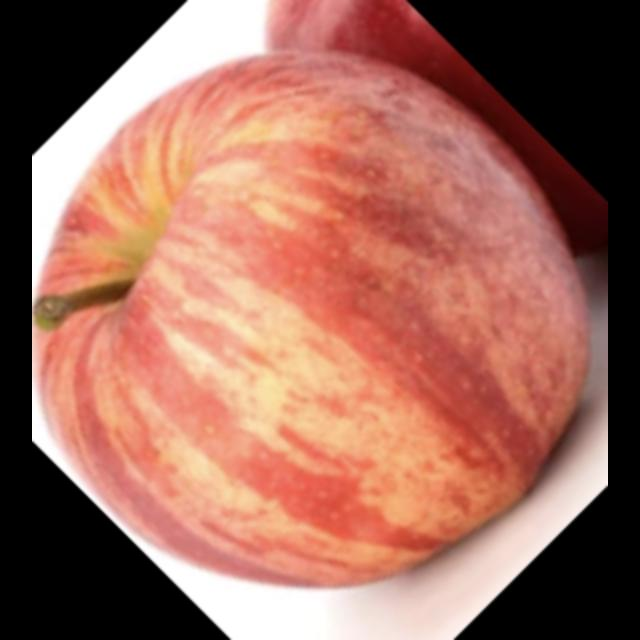Apel Segar: (33, 33, 600, 609)
